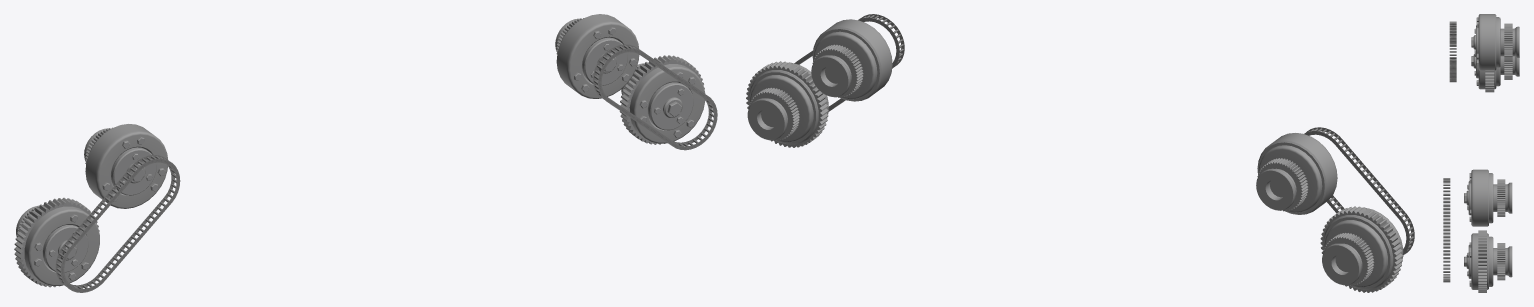
Rendered from camGears.glb.
3 views of the same model, side by side, from view 1: azimuth 30°, elevation 25°; view 2: azimuth 150°, elevation 25°; view 3: azimuth 270°, elevation 25° (orthographic). The views are drawn at different scales.
Parts seen in each view (by area): view 1: v8_coyote_rolka_walka_1(1), v8_coyote_rolka_walka_1(0), v8_coyote_rolka_walka_2(0), v8_coyote_rolka_walka_2(1), v8_coyote_lancuch_1(0), v8_coyote_lancuch_1(1); view 2: v8_coyote_rolka_walka_1(1), v8_coyote_rolka_walka_1(0), v8_coyote_rolka_walka_2(0), v8_coyote_rolka_walka_2(1), v8_coyote_lancuch_1(0), v8_coyote_lancuch_1(1); view 3: v8_coyote_rolka_walka_1(0), v8_coyote_rolka_walka_2(0), v8_coyote_rolka_walka_2(1), v8_coyote_rolka_walka_1(1), v8_coyote_lancuch_1(1), v8_coyote_lancuch_1(0).
Part boxes in pixels (x1,y1,x2,y2): v8_coyote_rolka_walka_1(1): (14,197,99,287); v8_coyote_rolka_walka_1(0): (619,55,705,144); v8_coyote_rolka_walka_2(0): (555,14,639,98); v8_coyote_rolka_walka_2(1): (84,124,167,208); v8_coyote_lancuch_1(0): (55,155,180,292); v8_coyote_lancuch_1(1): (593,44,717,150); v8_coyote_rolka_walka_1(1): (1320,206,1403,292); v8_coyote_rolka_walka_1(0): (746,61,828,147); v8_coyote_rolka_walka_2(0): (811,19,892,101); v8_coyote_rolka_walka_2(1): (1256,133,1337,214); v8_coyote_lancuch_1(0): (1304,127,1414,254); v8_coyote_lancuch_1(1): (794,14,904,111); v8_coyote_rolka_walka_1(0): (1464,230,1512,292); v8_coyote_rolka_walka_2(0): (1464,169,1512,226); v8_coyote_rolka_walka_2(1): (1471,14,1519,70); v8_coyote_rolka_walka_1(1): (1471,54,1519,92); v8_coyote_lancuch_1(1): (1443,178,1450,282); v8_coyote_lancuch_1(0): (1449,21,1456,82).
Size of the model in its own units: 0.0128 by 0.00253 by 0.00183.
Materials: 2 (1 with a texture image).
